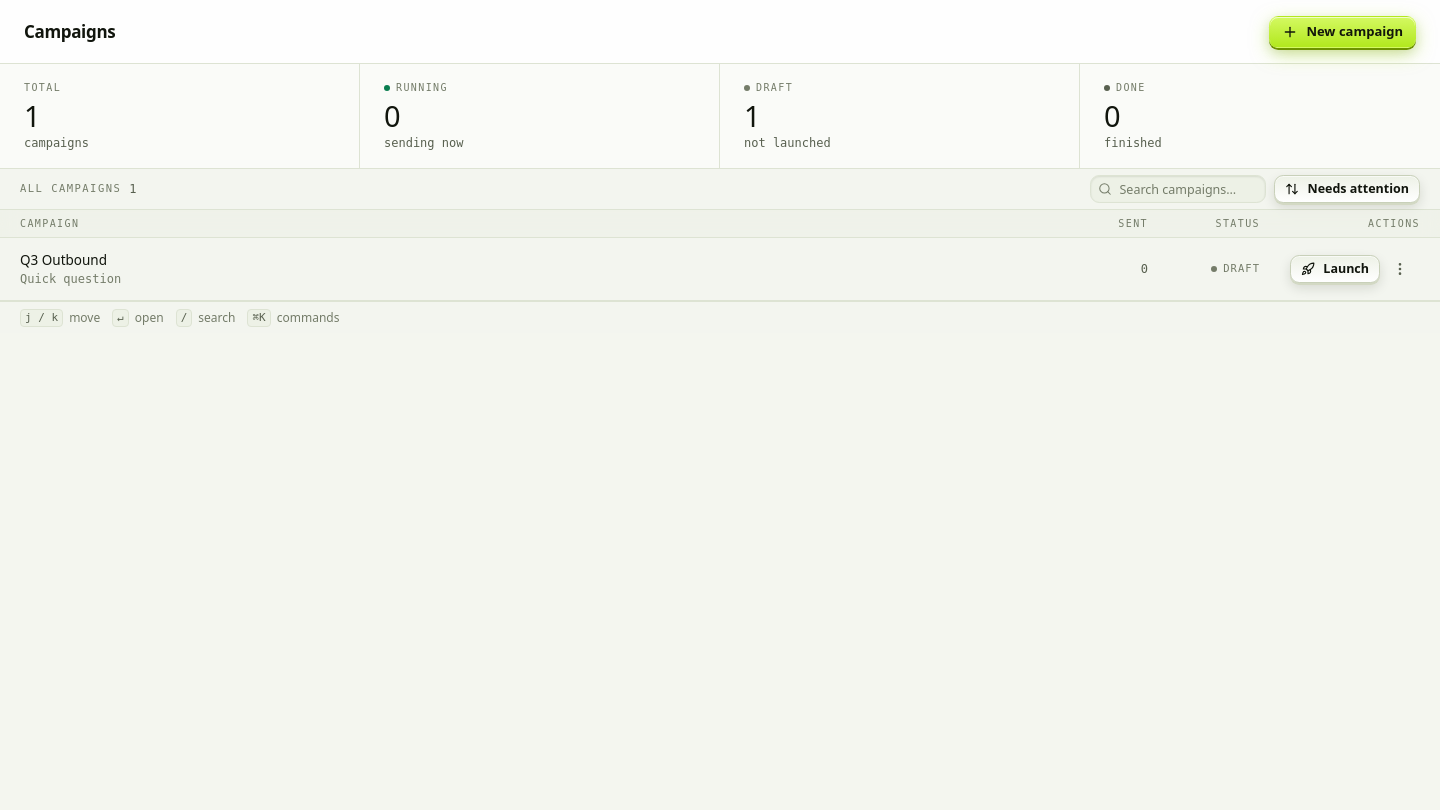
a fail check in the preflight report blocks the row Launch confirm, and Cancel closes without launching
Click the button "Launch" at (1335, 269), box [1290,255,1380,283]
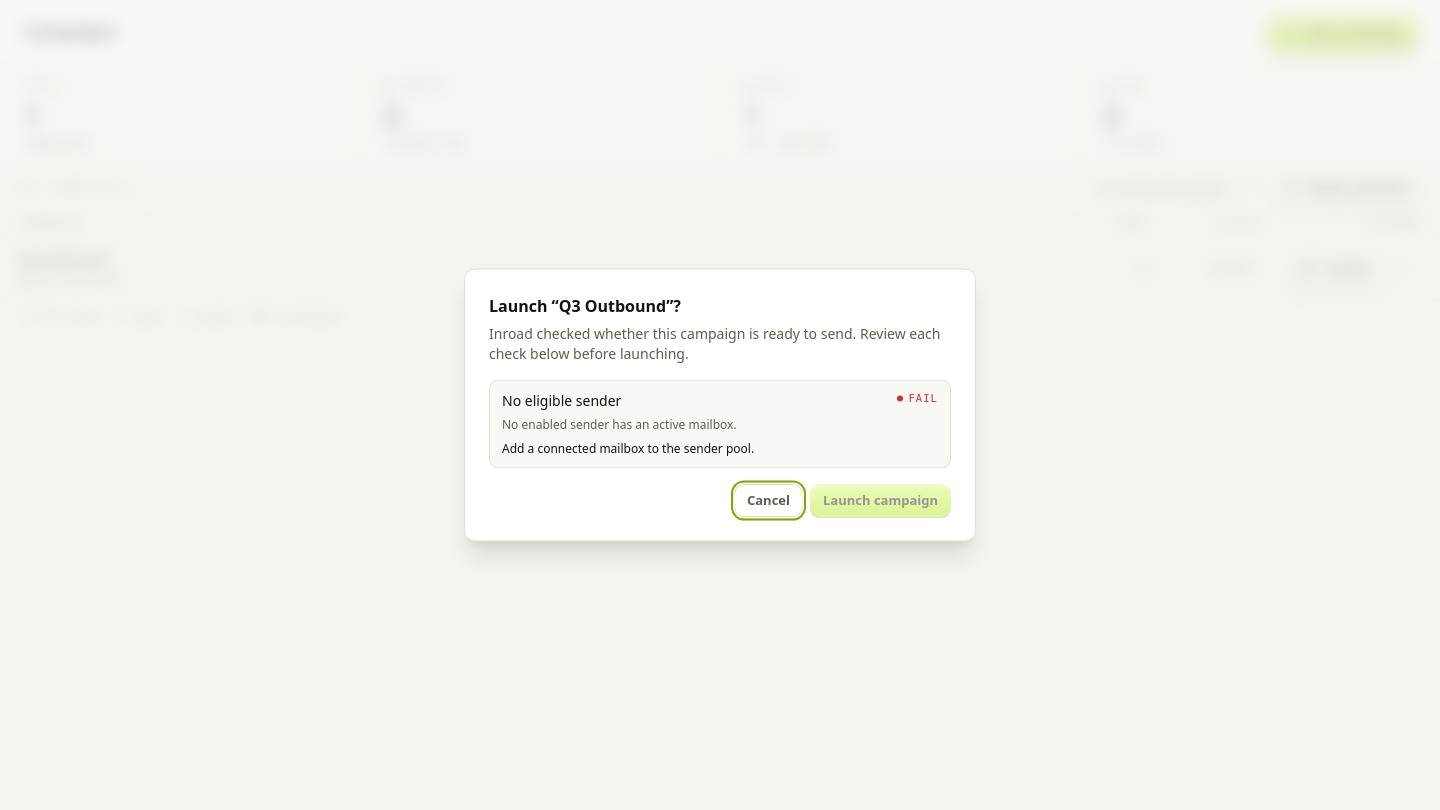
Result: the button "Launch campaign" is disabled at [810,484,951,516]
Click the button "Cancel" at (768, 500), box [735,484,802,516]
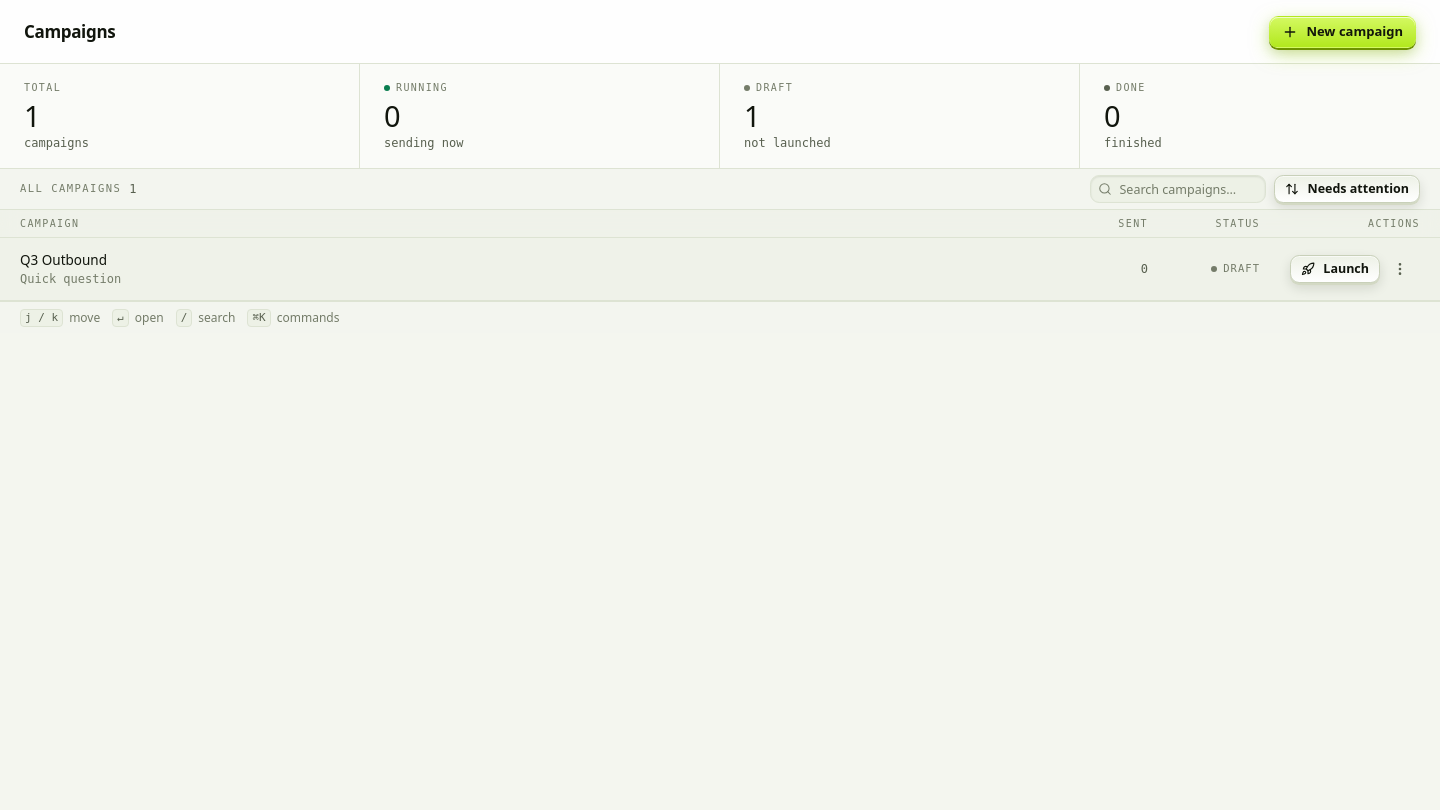
Result: the dialog is gone
